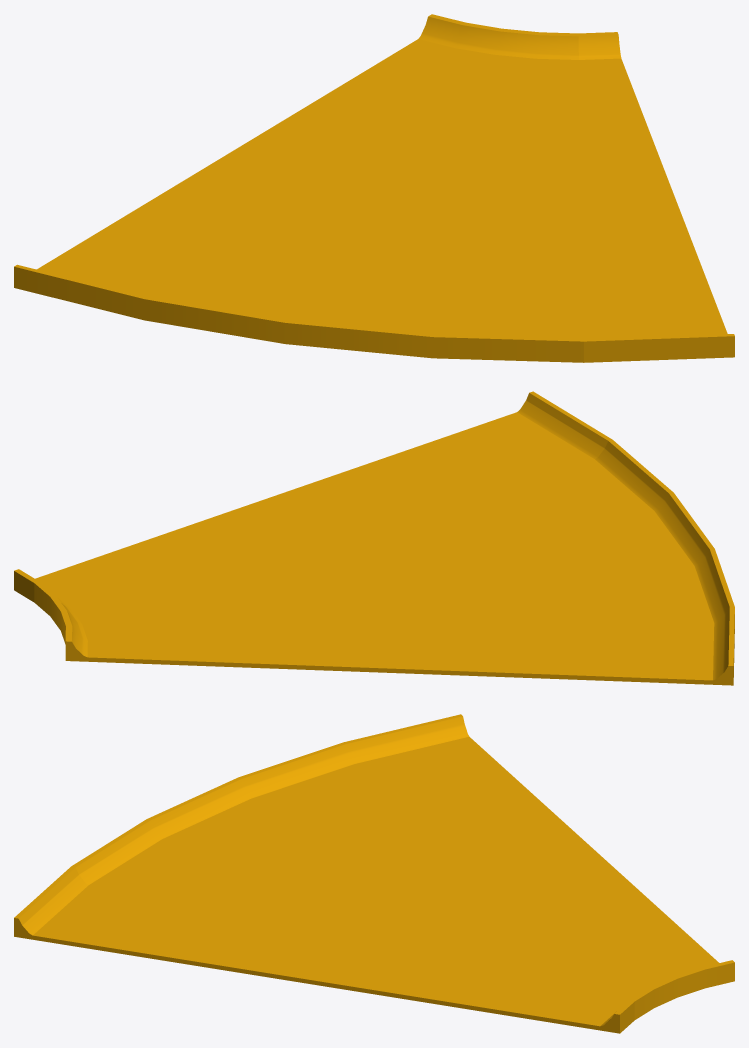
The model's file is 14mTrack_Blockout_45DTurn.fbx.
3 renders of one model, top to bottom at view 1: azimuth 30°, elevation 25°; view 2: azimuth 150°, elevation 25°; view 3: azimuth 270°, elevation 25°, orthographic. The views are drawn at different scales.
Parts seen in each view (by area): view 1: polySurface112; view 2: polySurface112; view 3: polySurface112.
Part boxes in pixels (left/top/right/bottom): polySurface112: left=14, top=14, right=734, bottom=362; polySurface112: left=14, top=391, right=734, bottom=685; polySurface112: left=14, top=714, right=734, bottom=1033.
Size of the model in its own units: 1536 by 45 by 1558.
